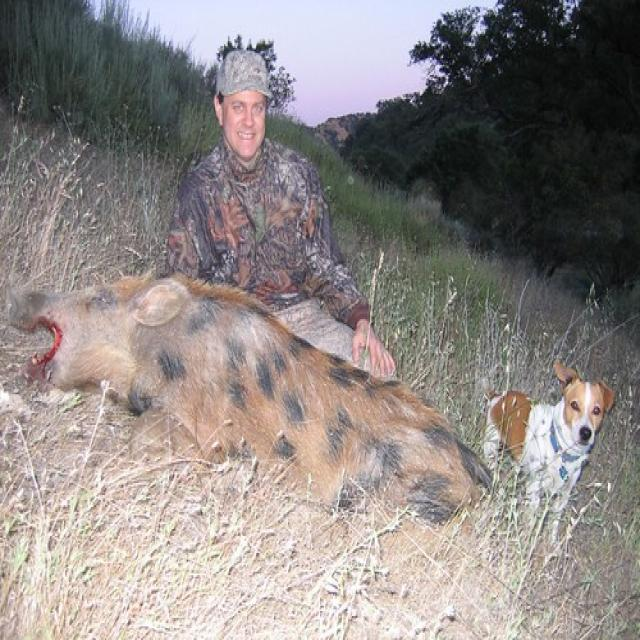boar: (11, 254, 496, 546)
